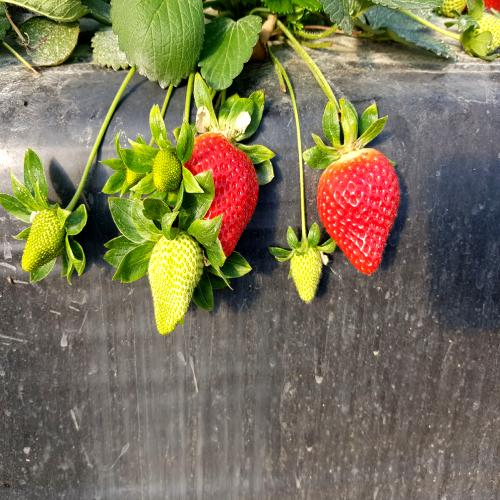ripe: (315, 134, 408, 286), (182, 107, 262, 280)
